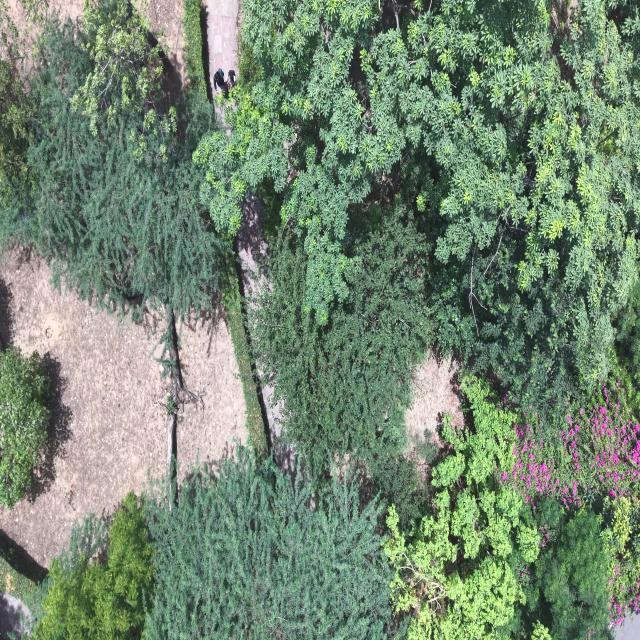DRY_AREA: (0, 247, 168, 565), (0, 248, 168, 565), (406, 354, 463, 454), (406, 355, 462, 452), (7, 0, 83, 71), (406, 355, 463, 447), (143, 0, 187, 84), (204, 0, 240, 86), (205, 0, 239, 84), (0, 592, 28, 639), (615, 615, 639, 639)
VEGETATION_TREE: (0, 0, 639, 639), (4, 0, 639, 412), (244, 2, 639, 476), (194, 1, 639, 381), (35, 376, 639, 639), (251, 175, 592, 477), (0, 0, 230, 441), (377, 2, 639, 379), (0, 0, 227, 316), (35, 452, 397, 639), (194, 0, 401, 322), (23, 3, 224, 314), (385, 378, 609, 639), (251, 198, 433, 487), (144, 452, 395, 639), (385, 380, 539, 639), (426, 228, 588, 423), (502, 373, 639, 504), (35, 493, 154, 639), (509, 497, 612, 639), (71, 0, 161, 134), (221, 257, 270, 457), (0, 4, 34, 250), (0, 347, 50, 508), (0, 59, 32, 249), (0, 531, 48, 639), (602, 496, 639, 624), (182, 0, 212, 112), (0, 540, 41, 614), (615, 279, 639, 377)
